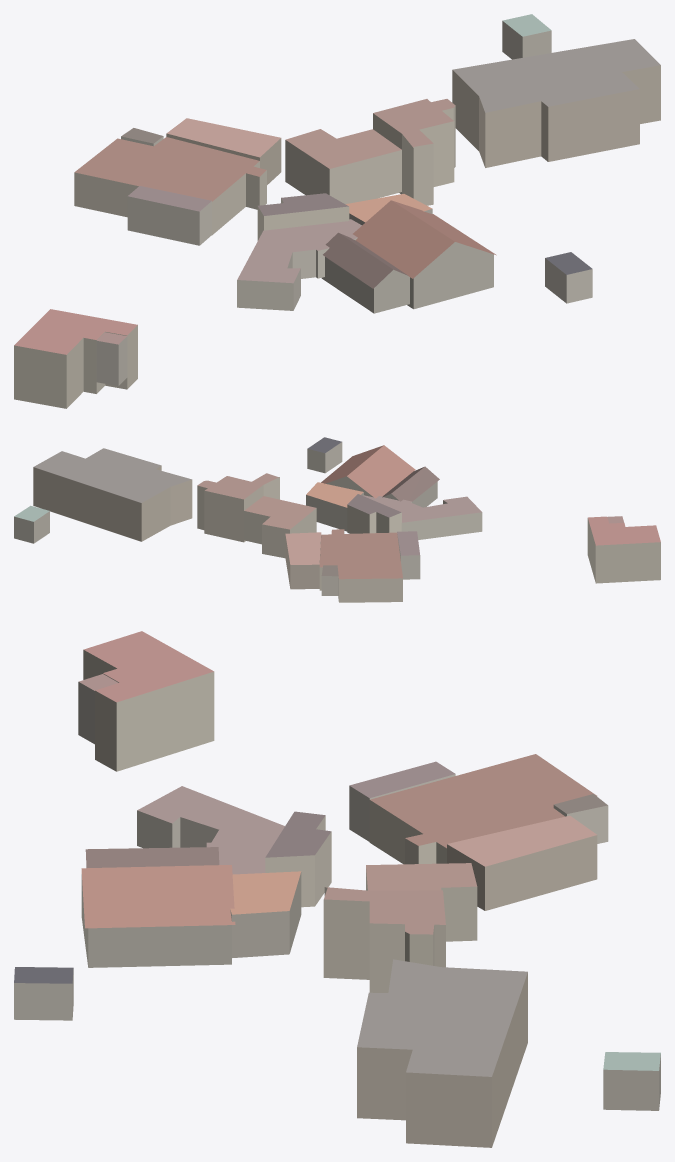
The picture shows the model from 3 angles, top to bottom: view 1: azimuth 30°, elevation 25°; view 2: azimuth 150°, elevation 25°; view 3: azimuth 270°, elevation 25°; orthographic projection. The views are drawn at different scales.
Parts seen in each view (by area): view 1: tuile; view 2: tuile; view 3: tuile.
Boxes of the visible parts, x1=… form: tuile: x1=14, y1=14, x2=660, y2=408; tuile: x1=14, y1=437, x2=660, y2=602; tuile: x1=14, y1=631, x2=660, y2=1147.
Bounding box in the file's own units: 115 × 12.22 × 66.2.
